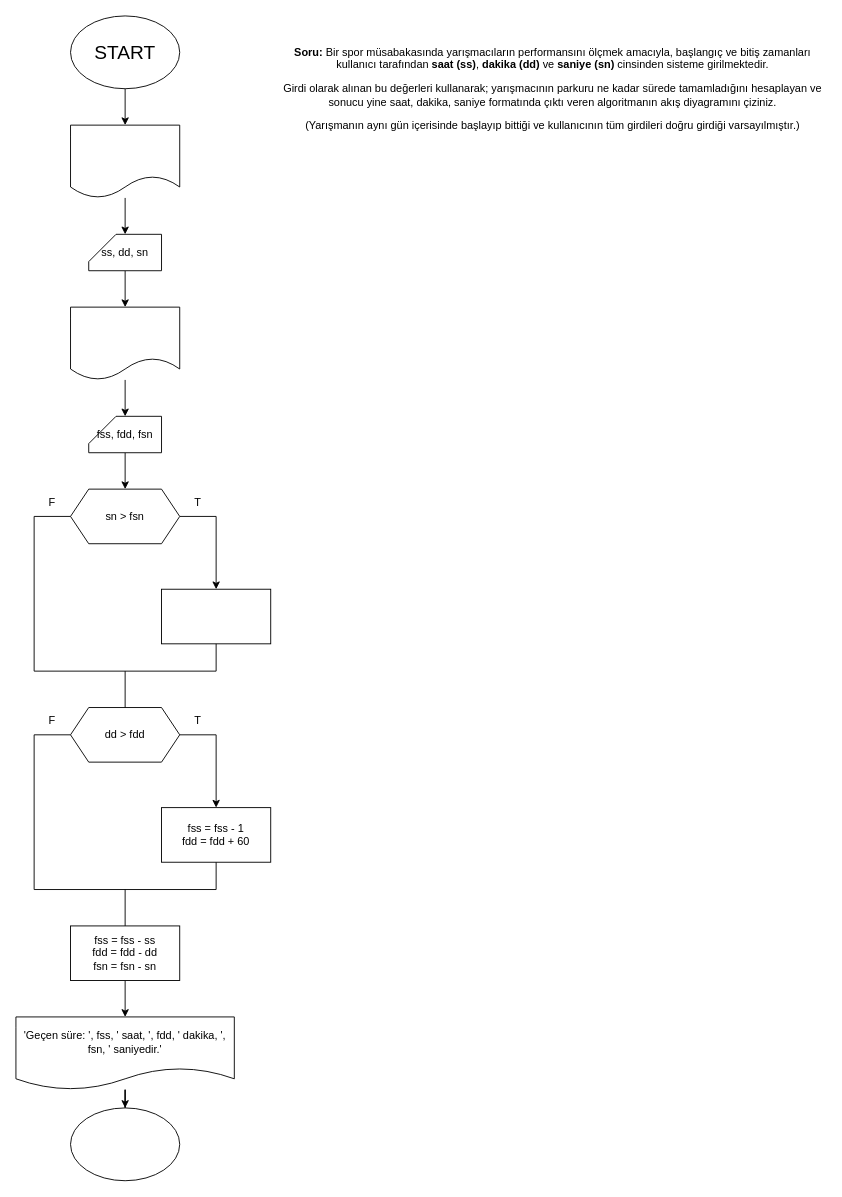
This 842x1197 diagram has some shape labels left out. Here are the shapes that lost their labels. From the top down, the box of each, then its label:
(70, 124, 180, 198): 'Başlangıç zamanını giriniz (saat, dakika, saniye): '
(70, 306, 180, 380): 'Bitiş zamanını giriniz (saat, dakika, saniye): '
(161, 588, 271, 644): fdd = fdd -1 fsn = fsn + 60
(70, 1107, 180, 1181): STOP
